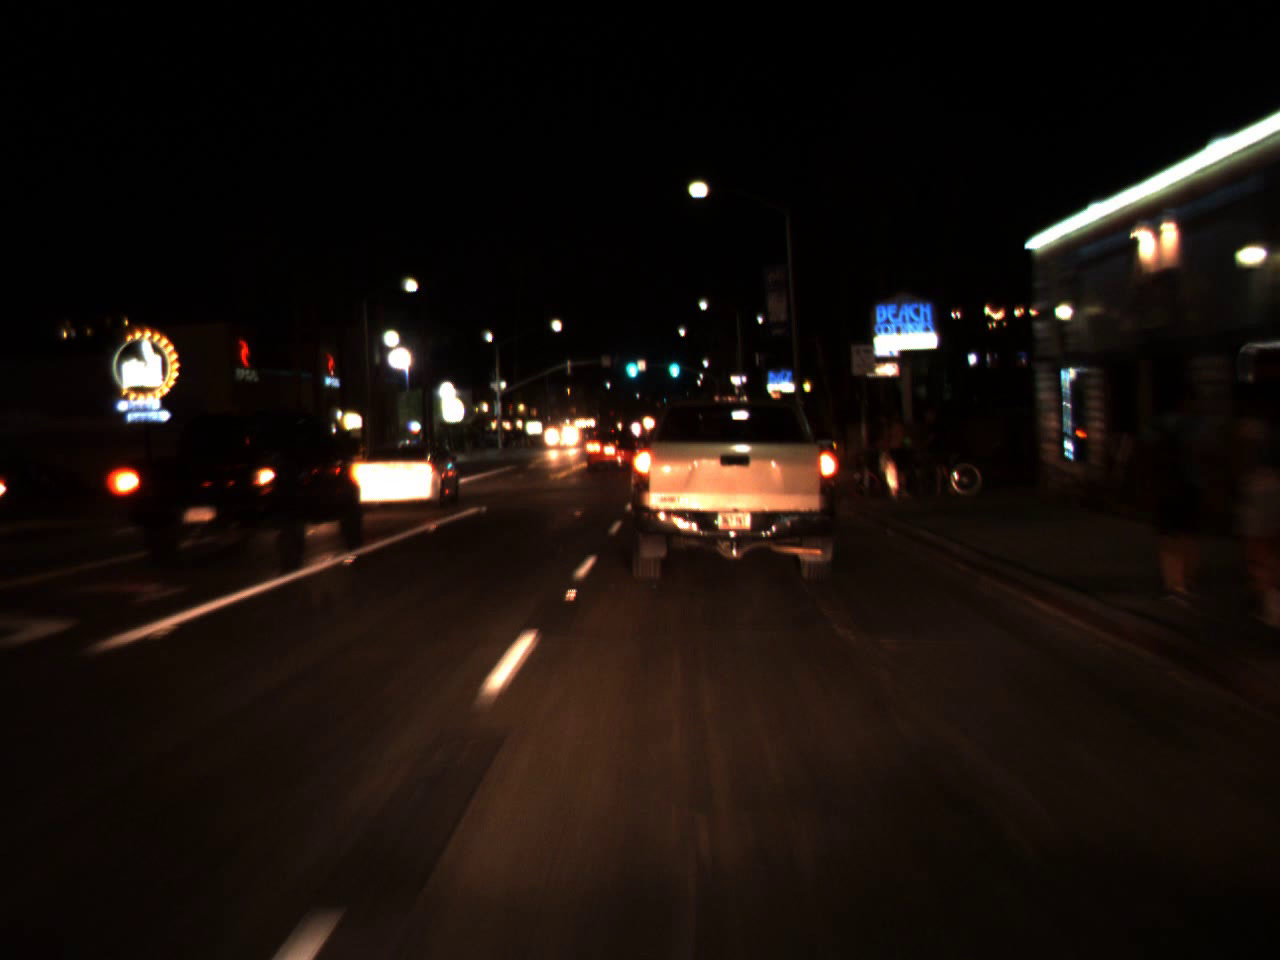go: (621, 344, 640, 383), (665, 347, 681, 380)
